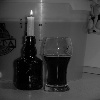beer: (41, 36, 73, 90)
